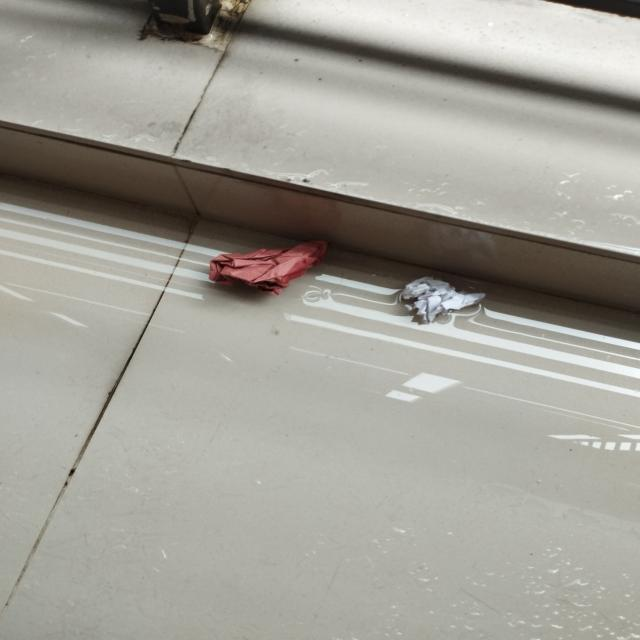paper: (207, 226, 332, 300), (400, 273, 490, 326)
